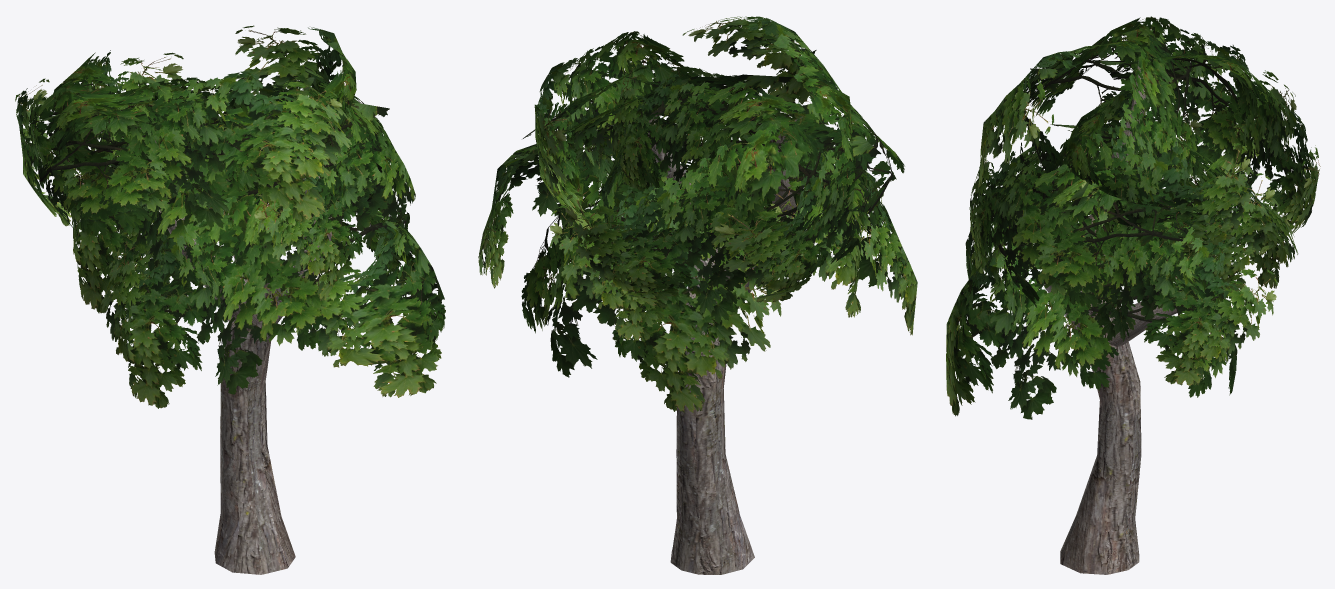
Rendered from Tree.fbx.
The picture shows the model from 3 angles, left to right: view 1: azimuth 30°, elevation 25°; view 2: azimuth 150°, elevation 25°; view 3: azimuth 270°, elevation 25°; orthographic projection. The views are drawn at different scales.
Parts seen in each view (by area): view 1: Foliage, Foliage_10_2, Foliage_9_2, Tree, Foliage_1_2, Foliage_2_3, Foliage_4_2, Foliage_8_2, Foliage_11_2, Foliage_12_2, Foliage_5_2; view 2: Foliage, Tree, Foliage_12_2, Foliage_3_3, Foliage_5_2, Foliage_11_2, Foliage_2_3, Foliage_10_2, Foliage_6_2, Foliage_3_2, Foliage_9_2, Foliage_8_2 (+3 smaller); view 3: Foliage, Tree, Foliage_3_2, Foliage_1_2, Foliage_4_2, Foliage_11_2, Foliage_12_2, Foliage_2_3, Foliage_10_2, Foliage_5_2, Foliage_7_2, Foliage_6_2 (+4 smaller).
Part boxes in pixels (<box>): Foliage: <box>16,25,443,408</box>; Foliage_10_2: <box>38,72,351,228</box>; Foliage_9_2: <box>101,175,406,407</box>; Tree: <box>214,156,333,574</box>; Foliage_1_2: <box>248,168,445,397</box>; Foliage_2_3: <box>15,78,230,236</box>; Foliage_4_2: <box>252,66,415,300</box>; Foliage_8_2: <box>72,101,389,312</box>; Foliage_11_2: <box>235,26,356,180</box>; Foliage_12_2: <box>49,50,183,197</box>; Foliage_5_2: <box>35,77,358,161</box>; Foliage: <box>478,16,917,412</box>; Tree: <box>648,115,754,574</box>; Foliage_12_2: <box>567,102,842,305</box>; Foliage_3_3: <box>522,144,781,411</box>; Foliage_5_2: <box>607,62,881,222</box>; Foliage_11_2: <box>535,31,782,228</box>; Foliage_2_3: <box>714,50,879,301</box>; Foliage_10_2: <box>683,16,904,212</box>; Foliage_6_2: <box>561,146,844,339</box>; Foliage_3_2: <box>478,84,695,288</box>; Foliage_9_2: <box>662,127,917,334</box>; Foliage_8_2: <box>627,77,861,317</box>; Foliage: <box>946,17,1319,419</box>; Tree: <box>1043,214,1141,574</box>; Foliage_3_2: <box>1055,138,1277,386</box>; Foliage_1_2: <box>946,223,1211,419</box>; Foliage_4_2: <box>969,149,1205,308</box>; Foliage_11_2: <box>1020,115,1253,264</box>; Foliage_12_2: <box>1093,55,1320,255</box>; Foliage_2_3: <box>1031,16,1296,186</box>; Foliage_10_2: <box>978,40,1175,186</box>; Foliage_5_2: <box>1078,30,1199,231</box>; Foliage_7_2: <box>1015,173,1278,312</box>; Foliage_6_2: <box>1072,125,1298,288</box>.
Bounding box in the file's own units: 387 × 506 × 352.
Materials: 20 (20 with a texture image).
